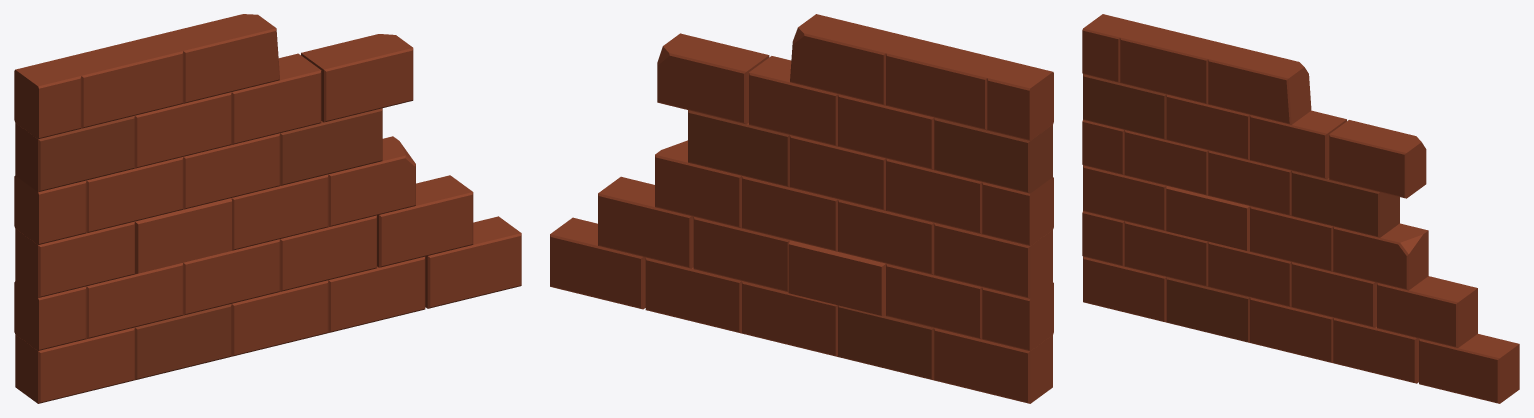
The model's file is Wall_09.fbx.
3 views of the same model, side by side, from view 1: azimuth 30°, elevation 25°; view 2: azimuth 150°, elevation 25°; view 3: azimuth 330°, elevation 25° (orthographic). The views are drawn at different scales.
Parts seen in each view (by area): view 1: Wall_09; view 2: Wall_09; view 3: Wall_09.
Part boxes in pixels (bbox=[...]): Wall_09: bbox=[14, 14, 521, 403]; Wall_09: bbox=[550, 14, 1053, 403]; Wall_09: bbox=[1082, 14, 1519, 403].
Bounding box in the file's own units: 227 × 142 × 22.25.
